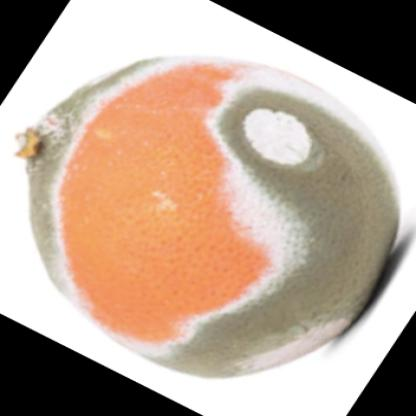rotten: (24, 54, 401, 381)
